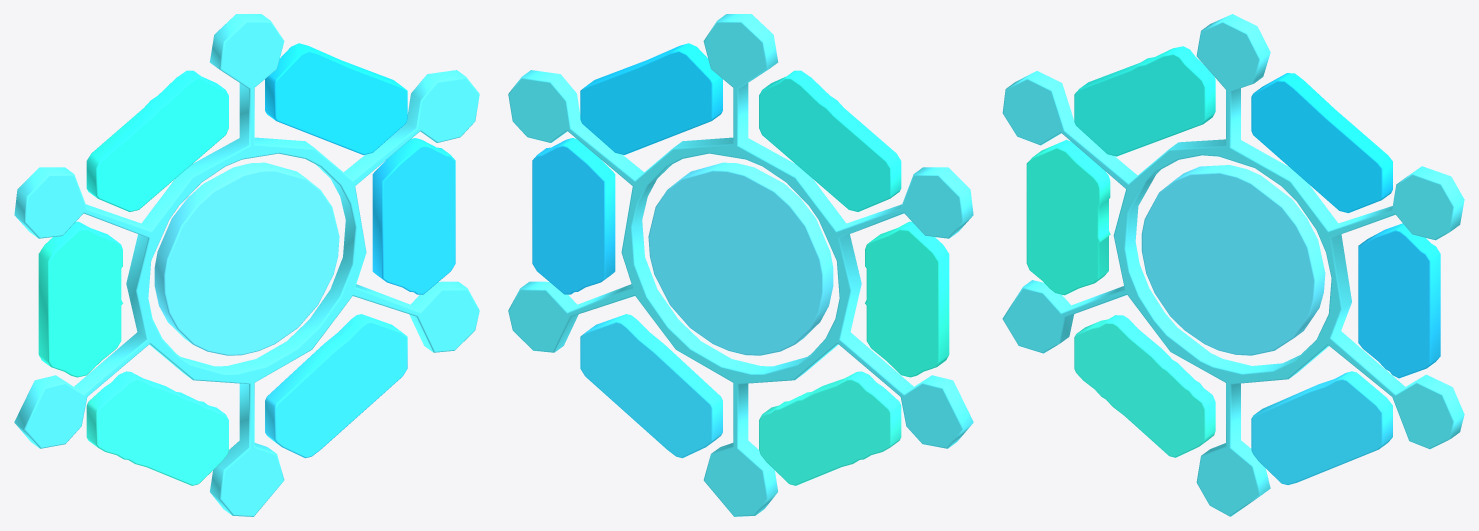
The model's file is tgbc_favicon_r1.glb.
3 renders of one model, left to right at view 1: azimuth 30°, elevation 25°; view 2: azimuth 150°, elevation 25°; view 3: azimuth 330°, elevation 25°, orthographic.
Parts seen in each view (by area): view 1: TGBC favicon • vector region 8.002, TGBC favicon • vector region 5.002, TGBC favicon • vector region 7.002, TGBC favicon • vector region 1.002, TGBC favicon • vector region 4.002, TGBC favicon • vector region 3.002, TGBC favicon • vector region 6.002, TGBC favicon • vector region 2.002; view 2: TGBC favicon • vector region 8.002, TGBC favicon • vector region 5.002, TGBC favicon • vector region 7.002, TGBC favicon • vector region 1.002, TGBC favicon • vector region 4.002, TGBC favicon • vector region 3.002, TGBC favicon • vector region 6.002, TGBC favicon • vector region 2.002; view 3: TGBC favicon • vector region 8.002, TGBC favicon • vector region 5.002, TGBC favicon • vector region 6.002, TGBC favicon • vector region 2.002, TGBC favicon • vector region 3.002, TGBC favicon • vector region 4.002, TGBC favicon • vector region 7.002, TGBC favicon • vector region 1.002.
Part boxes in pixels (x1,y1,x2,y2): TGBC favicon • vector region 8.002: [14, 14, 479, 516]; TGBC favicon • vector region 5.002: [154, 162, 339, 355]; TGBC favicon • vector region 7.002: [265, 314, 407, 458]; TGBC favicon • vector region 1.002: [86, 70, 228, 211]; TGBC favicon • vector region 4.002: [372, 138, 455, 294]; TGBC favicon • vector region 3.002: [38, 221, 122, 377]; TGBC favicon • vector region 6.002: [86, 371, 228, 485]; TGBC favicon • vector region 2.002: [265, 43, 407, 154]; TGBC favicon • vector region 8.002: [508, 14, 973, 516]; TGBC favicon • vector region 5.002: [648, 162, 833, 355]; TGBC favicon • vector region 7.002: [580, 314, 722, 458]; TGBC favicon • vector region 1.002: [759, 70, 901, 211]; TGBC favicon • vector region 4.002: [532, 138, 615, 294]; TGBC favicon • vector region 3.002: [865, 221, 949, 377]; TGBC favicon • vector region 6.002: [759, 371, 901, 485]; TGBC favicon • vector region 2.002: [580, 43, 722, 154]; TGBC favicon • vector region 8.002: [1002, 14, 1464, 516]; TGBC favicon • vector region 5.002: [1141, 165, 1325, 355]; TGBC favicon • vector region 6.002: [1074, 315, 1215, 457]; TGBC favicon • vector region 2.002: [1251, 73, 1392, 213]; TGBC favicon • vector region 3.002: [1026, 139, 1110, 295]; TGBC favicon • vector region 4.002: [1358, 223, 1440, 378]; TGBC favicon • vector region 7.002: [1251, 371, 1392, 485]; TGBC favicon • vector region 1.002: [1074, 46, 1215, 156].
Size of the model in its own units: 2.03 by 2.11 by 0.082.
